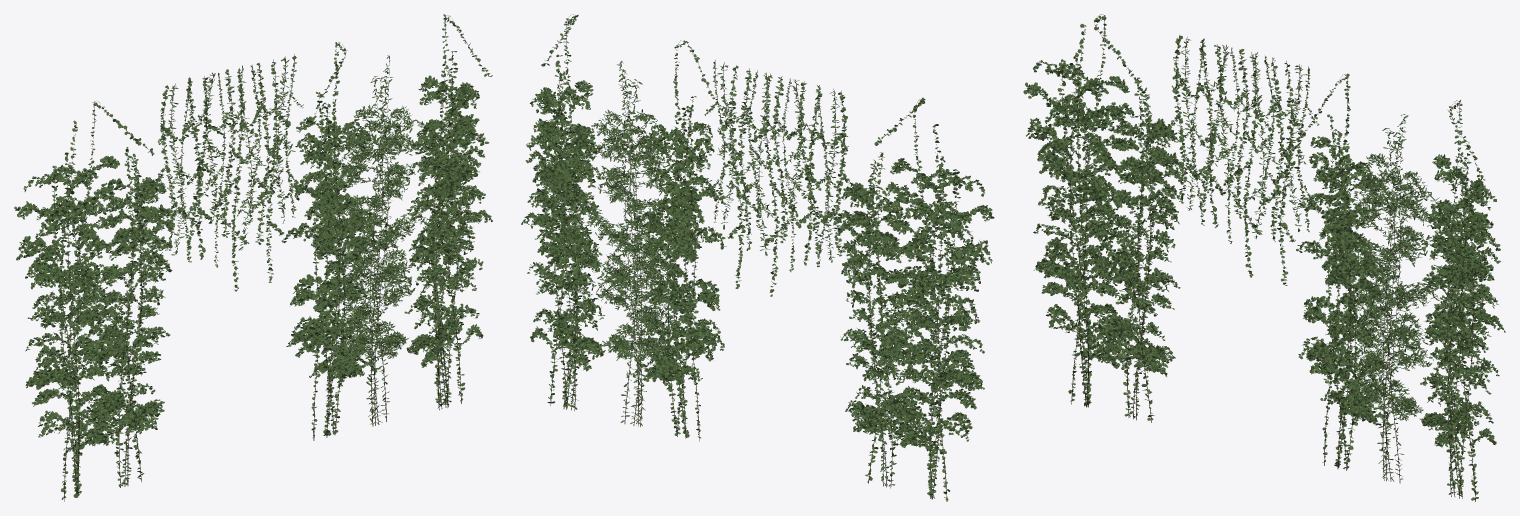
File: entry-wall-garden.glb
The picture shows the model from 3 angles, left to right: view 1: azimuth 30°, elevation 25°; view 2: azimuth 150°, elevation 25°; view 3: azimuth 330°, elevation 25°; orthographic projection.
Visible parts, largest first — view 1: Entry_Wall_Leaves, Entry_Wall_Connected_Branches; view 2: Entry_Wall_Leaves, Entry_Wall_Connected_Branches; view 3: Entry_Wall_Leaves, Entry_Wall_Connected_Branches.
Boxes of the visible parts, left/top/right/bottom form: Entry_Wall_Leaves: left=14, top=14, right=492, bottom=499; Entry_Wall_Connected_Branches: left=18, top=15, right=486, bottom=501; Entry_Wall_Leaves: left=521, top=14, right=994, bottom=500; Entry_Wall_Connected_Branches: left=535, top=14, right=988, bottom=501; Entry_Wall_Leaves: left=1023, top=15, right=1505, bottom=500; Entry_Wall_Connected_Branches: left=1034, top=14, right=1498, bottom=501.
Bounding box in the file's own units: 12.84 × 10.17 × 0.8172.
5 materials, 4 textured.
